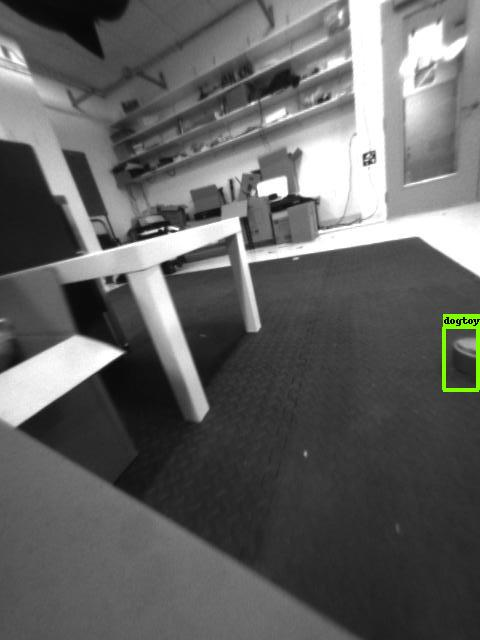dogtoy: (446, 326, 480, 385)
